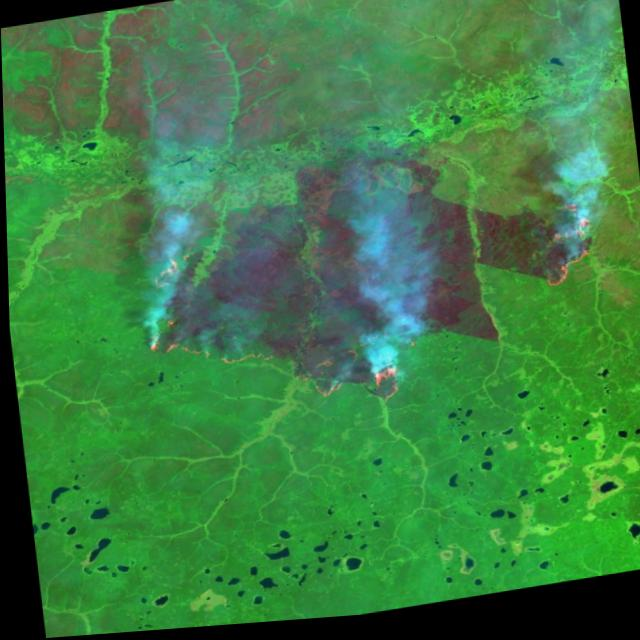fire: (122, 210, 434, 449), (524, 200, 607, 304)
